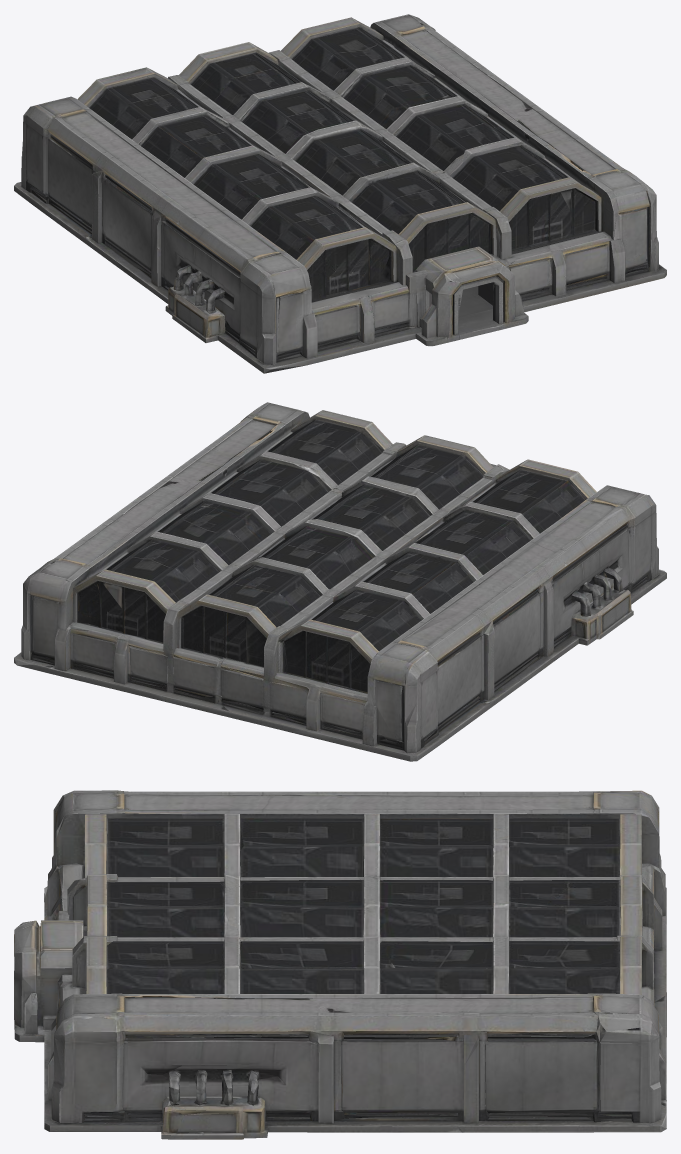
Rendered from imperial_hydroponic_bay_lod1.glb.
3 renders of one model, top to bottom at view 1: azimuth 30°, elevation 25°; view 2: azimuth 150°, elevation 25°; view 3: azimuth 270°, elevation 25°, orthographic. The views are drawn at different scales.
Visible parts, largest first — view 1: mesh_node; view 2: mesh_node; view 3: mesh_node.
Boxes of the visible parts, x1=… form: mesh_node: x1=14, y1=14, x2=666, y2=373; mesh_node: x1=14, y1=402, x2=666, y2=761; mesh_node: x1=14, y1=790, x2=666, y2=1139.
Size of the model in its own units: 22.87 by 5.09 by 24.66.
Materials: 1 (1 with a texture image).
